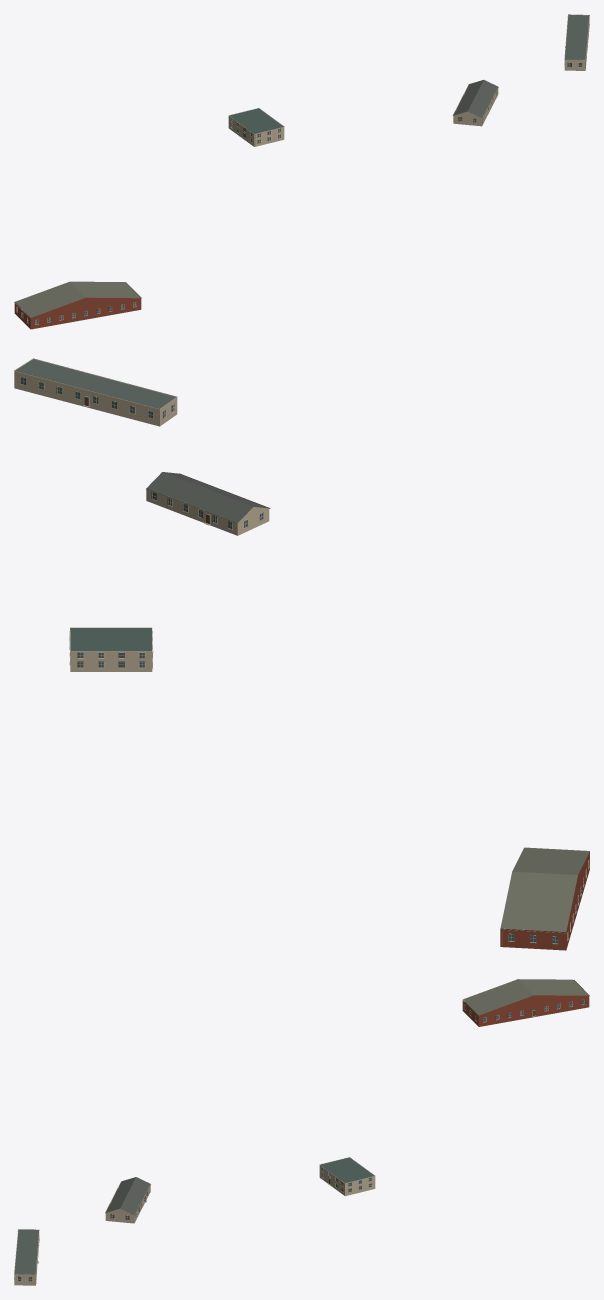
The picture shows the model from 3 angles, top to bottom: view 1: azimuth 90°, elevation 25°; view 2: azimuth 150°, elevation 25°; view 3: azimuth 270°, elevation 25°; orthographic projection. The views are drawn at different scales.
Visible parts, largest first — view 1: -8_1_271022211_0, -8_1_271269906_12; view 2: -8_1_271022211_0, -8_1_271269906_12; view 3: -8_1_271022211_0, -8_1_271269906_12.
Part boxes in pixels (x1,y1,x2,y2): -8_1_271022211_0: (14,14,589,329); -8_1_271269906_12: (228,23,589,146); -8_1_271022211_0: (14,358,589,950); -8_1_271269906_12: (14,371,269,671); -8_1_271022211_0: (14,979,589,1283); -8_1_271269906_12: (14,1165,375,1285).
Size of the model in its own units: 256 by 8.73 by 208.
